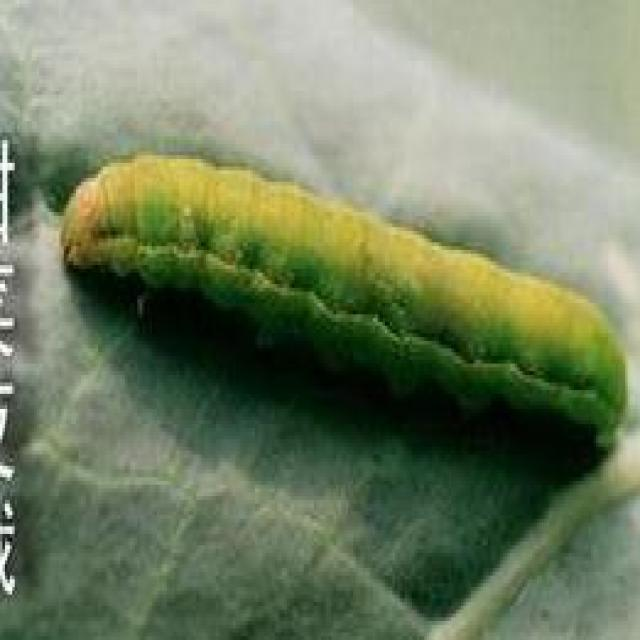BeetArmyWorm-Larva-: (48, 126, 638, 458)
